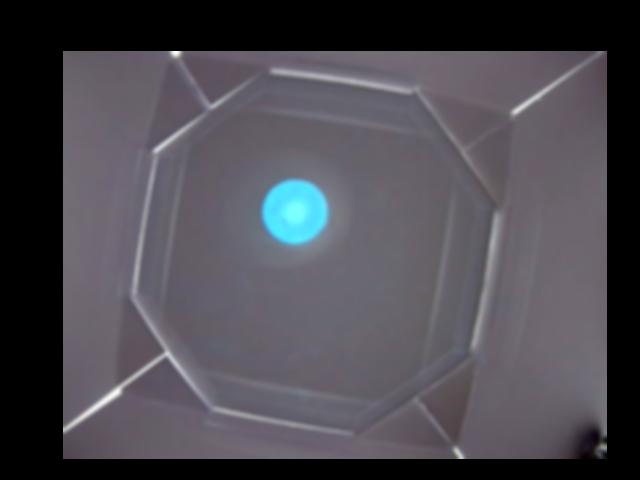Carrot: (261, 179, 327, 244)
